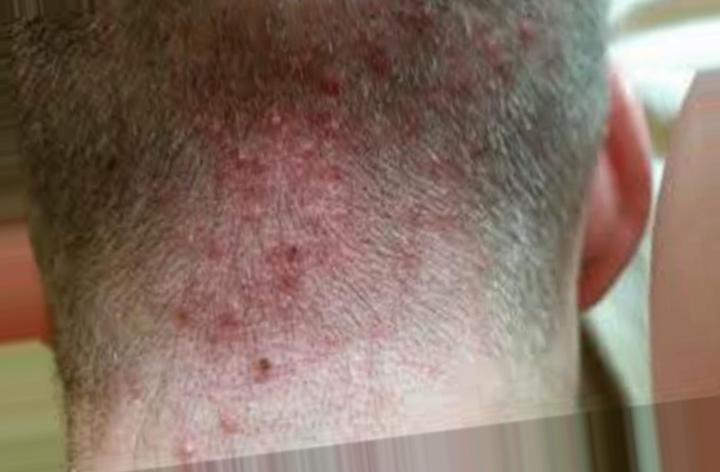Folliculitis: (189, 85, 328, 384)
